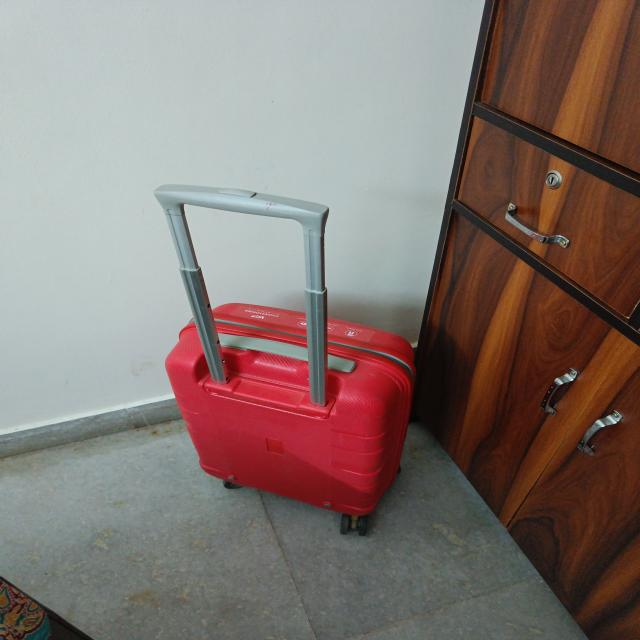suitcaserotation: (148, 181, 421, 538)
